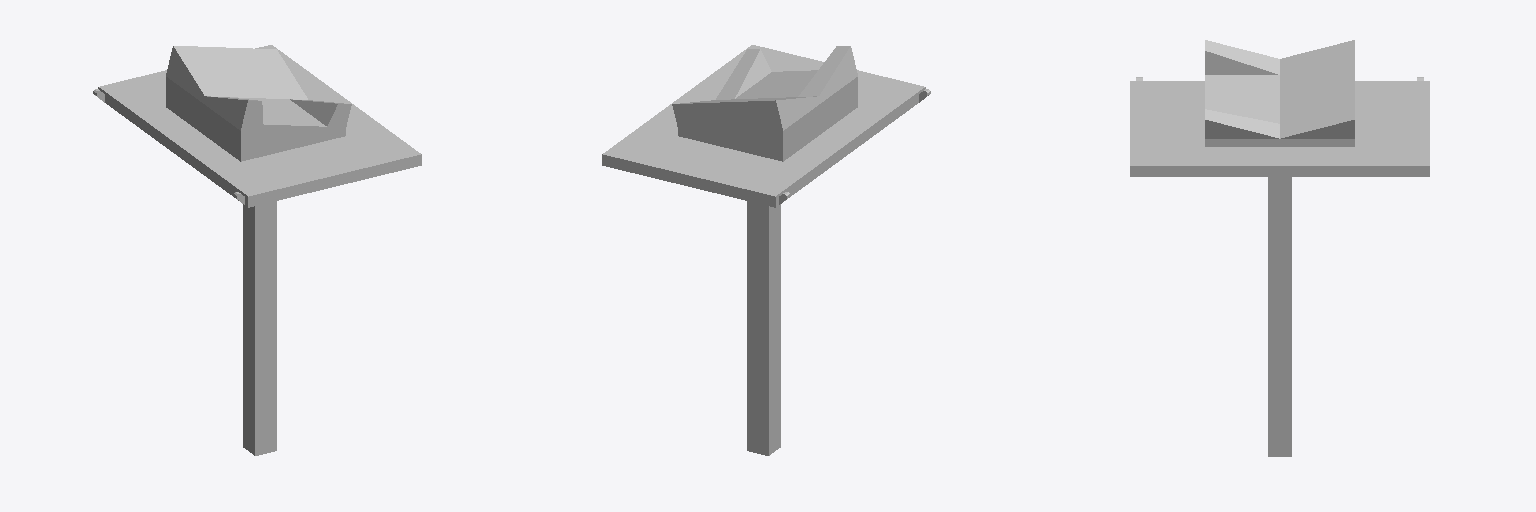
The model's file is SpecialTable.obj.
The picture shows the model from 3 angles: view 1: azimuth 30°, elevation 25°; view 2: azimuth 150°, elevation 25°; view 3: azimuth 270°, elevation 25°; orthographic projection.
Visible parts, largest first — view 1: entity0_brush1, entity0_brush0, entity0_brush2, entity0_brush8, entity0_brush7, entity0_brush3, entity0_brush4, entity0_brush6; view 2: entity0_brush1, entity0_brush0, entity0_brush3, entity0_brush2, entity0_brush7, entity0_brush8, entity0_brush4, entity0_brush6; view 3: entity0_brush1, entity0_brush2, entity0_brush0, entity0_brush8, entity0_brush6, entity0_brush4, entity0_brush3, entity0_brush5.
Part boxes in pixels (left/top/right/bottom): entity0_brush1: left=98, top=45, right=421, bottom=207; entity0_brush0: left=243, top=201, right=276, bottom=455; entity0_brush2: left=168, top=46, right=307, bottom=99; entity0_brush8: left=230, top=97, right=326, bottom=155; entity0_brush7: left=203, top=97, right=264, bottom=161; entity0_brush3: left=166, top=69, right=204, bottom=133; entity0_brush4: left=290, top=99, right=351, bottom=126; entity0_brush6: left=205, top=96, right=262, bottom=123; entity0_brush1: left=602, top=45, right=925, bottom=207; entity0_brush0: left=747, top=201, right=780, bottom=455; entity0_brush3: left=678, top=97, right=820, bottom=161; entity0_brush2: left=672, top=96, right=818, bottom=126; entity0_brush7: left=819, top=69, right=857, bottom=133; entity0_brush8: left=736, top=70, right=817, bottom=98; entity0_brush4: left=716, top=49, right=771, bottom=99; entity0_brush6: left=798, top=46, right=855, bottom=96; entity0_brush1: left=1130, top=81, right=1429, bottom=176; entity0_brush2: left=1280, top=40, right=1354, bottom=138; entity0_brush0: left=1268, top=177, right=1291, bottom=456; entity0_brush8: left=1205, top=75, right=1279, bottom=123; entity0_brush6: left=1205, top=40, right=1279, bottom=74; entity0_brush4: left=1205, top=109, right=1279, bottom=138; entity0_brush3: left=1280, top=139, right=1354, bottom=146; entity0_brush5: left=1205, top=139, right=1279, bottom=146.
Bounding box in the file's own units: 67 × 137 × 96.